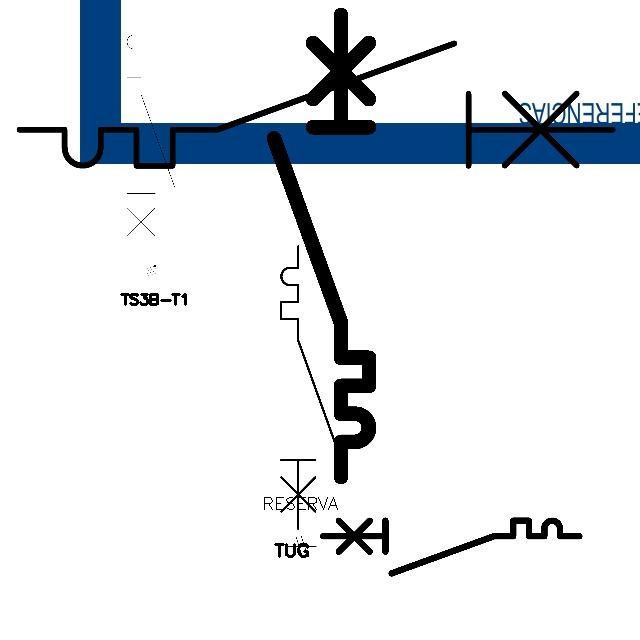interruptor_termomagnetico: (4, 28, 628, 181), (262, 3, 381, 489), (274, 239, 346, 536), (316, 514, 585, 580), (121, 11, 181, 256)
